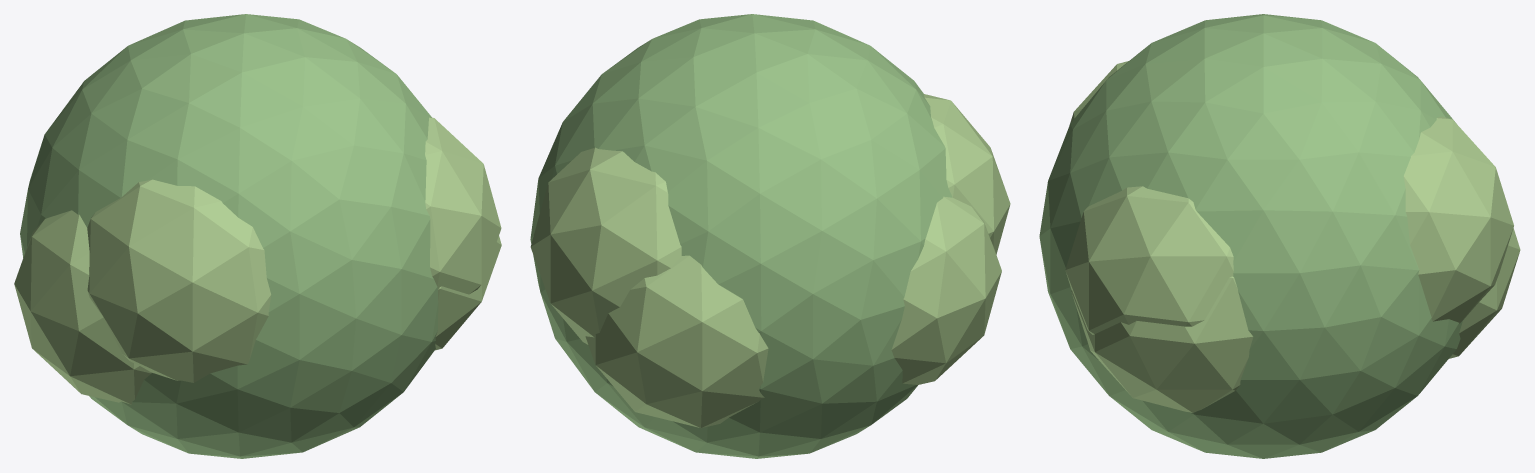
Rendered from bush.glb.
The picture shows the model from 3 angles, left to right: view 1: azimuth 30°, elevation 25°; view 2: azimuth 150°, elevation 25°; view 3: azimuth 270°, elevation 25°; orthographic projection.
Parts seen in each view (by area): view 1: bush_leaf, bush_leaf2; view 2: bush_leaf, bush_leaf2; view 3: bush_leaf, bush_leaf2.
Boxes of the visible parts, x1,y1,x2,y2 form: bush_leaf: (20, 14, 438, 458); bush_leaf2: (14, 117, 501, 404); bush_leaf: (530, 14, 952, 458); bush_leaf2: (530, 94, 1010, 427); bush_leaf: (1039, 14, 1462, 458); bush_leaf2: (1065, 61, 1520, 412).
Size of the model in its own units: 1.11 by 1 by 1.07.
